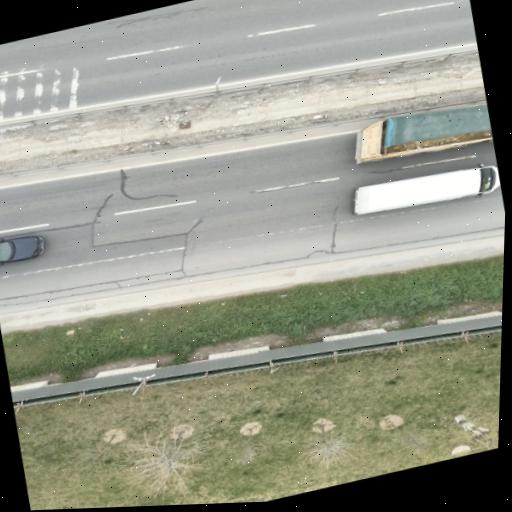car: (0, 236, 43, 265)
truck: (355, 105, 492, 163), (353, 165, 499, 215)
